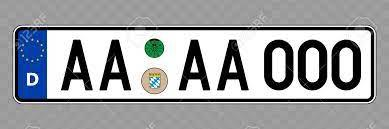0: (261, 38, 295, 91), (330, 38, 363, 91), (297, 38, 329, 92)
A: (175, 36, 215, 91), (94, 38, 133, 92), (214, 38, 252, 92), (59, 36, 96, 90)
